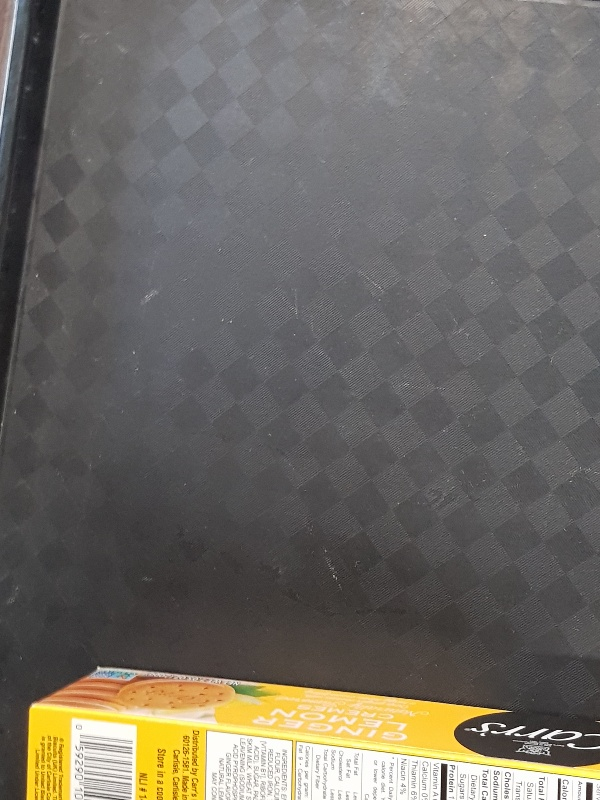Carr's Ginger Lemon Cremes: (27, 664, 600, 799)
